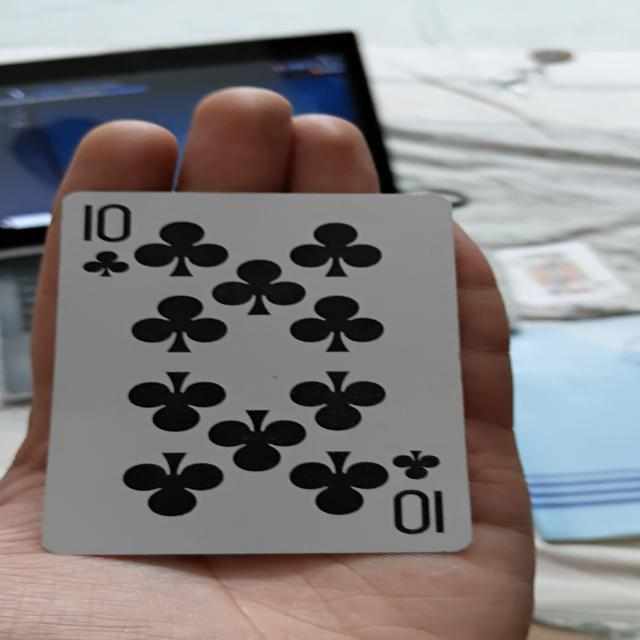10C: (53, 190, 474, 552)
